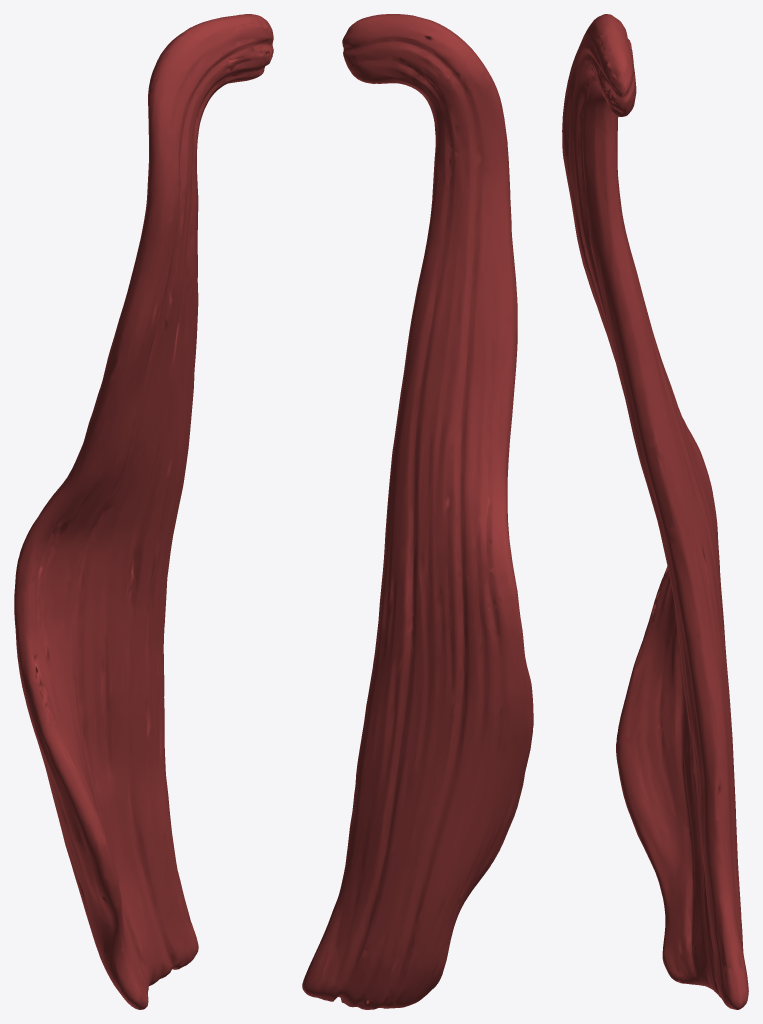
The model's file is palatopharyngeus-muscle-r.glb.
3 renders of one model, left to right at view 1: azimuth 30°, elevation 25°; view 2: azimuth 150°, elevation 25°; view 3: azimuth 270°, elevation 25°, orthographic. The views are drawn at different scales.
Visible parts, largest first — view 1: Palatopharyngeus muscle.r; view 2: Palatopharyngeus muscle.r; view 3: Palatopharyngeus muscle.r.
Boxes of the visible parts, x1,y1,x2,y2 form: Palatopharyngeus muscle.r: (14,14,273,1009); Palatopharyngeus muscle.r: (302,14,533,1009); Palatopharyngeus muscle.r: (562,14,748,1009).
Size of the model in its own units: 0.0205 by 0.088 by 0.0153.
